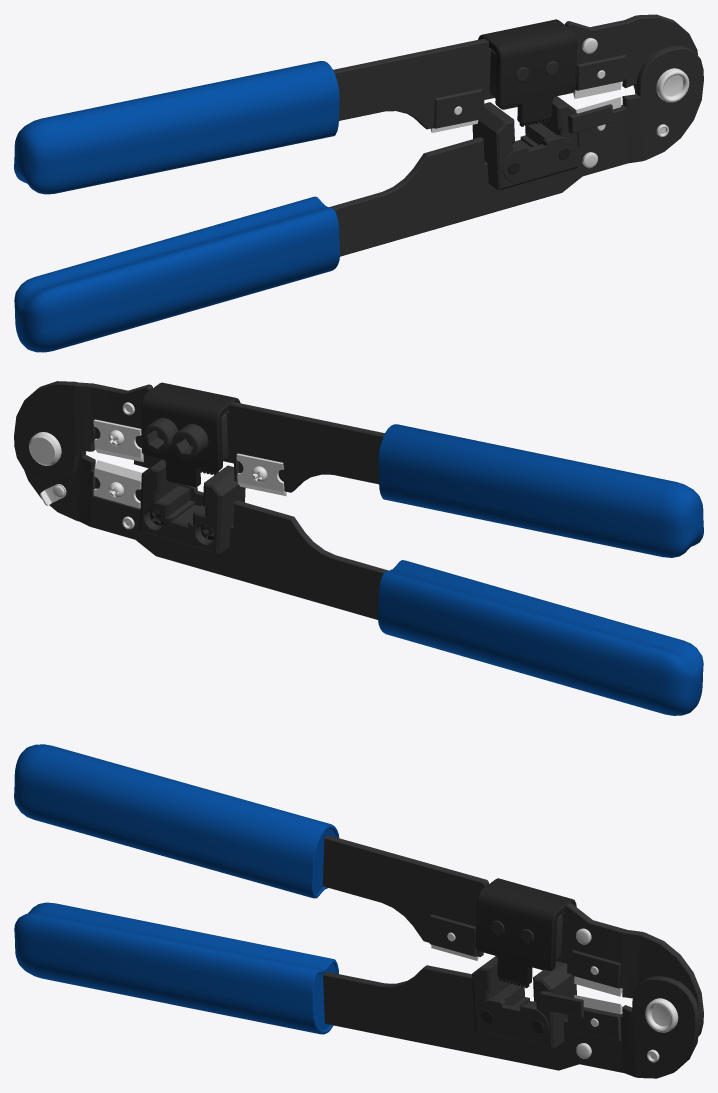
File: CrimpTool.glb
3 renders of one model, top to bottom at view 1: azimuth 30°, elevation 25°; view 2: azimuth 150°, elevation 25°; view 3: azimuth 330°, elevation 25°, orthographic.
Parts seen in each view (by area): view 1: Handle1.001, Handle2.001, Pivot.001; view 2: Handle2.001, Handle1.001, Pivot.001; view 3: Handle1.001, Handle2.001, Pivot.001.
Boxes of the visible parts, x1,y1,x2,y2 form: Handle1.001: [14, 45, 703, 352]; Handle2.001: [14, 14, 697, 194]; Pivot.001: [656, 68, 689, 102]; Handle2.001: [14, 381, 703, 557]; Handle1.001: [24, 451, 703, 715]; Pivot.001: [29, 432, 61, 465]; Handle1.001: [14, 902, 699, 1078]; Handle2.001: [14, 744, 703, 1036]; Pivot.001: [645, 998, 678, 1032].
Size of the model in its own units: 0.1955 by 0.0631 by 0.0191.
